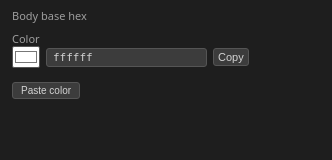
Requirement 2: HexStrControlRow Integration Verification › A2.5: Error hint on clipboard read failure › displays 'No #RRGGBB in clipboard' on invalid paste
Click the button "Paste color": (46, 90) [12,82,80,99]
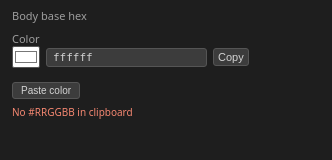
expect the message reads "No #RRGGBB in clipboard": met, box [12,105,133,119]
